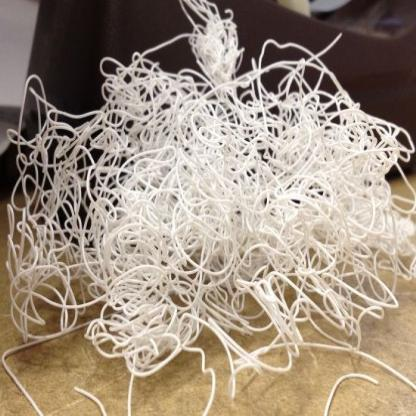fail: (8, 24, 410, 385)
